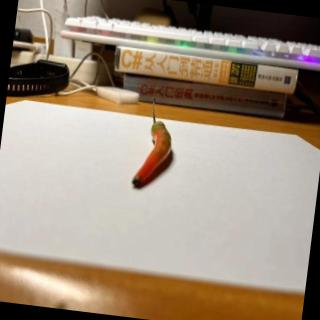Cabai Merah: (132, 95, 179, 192)
